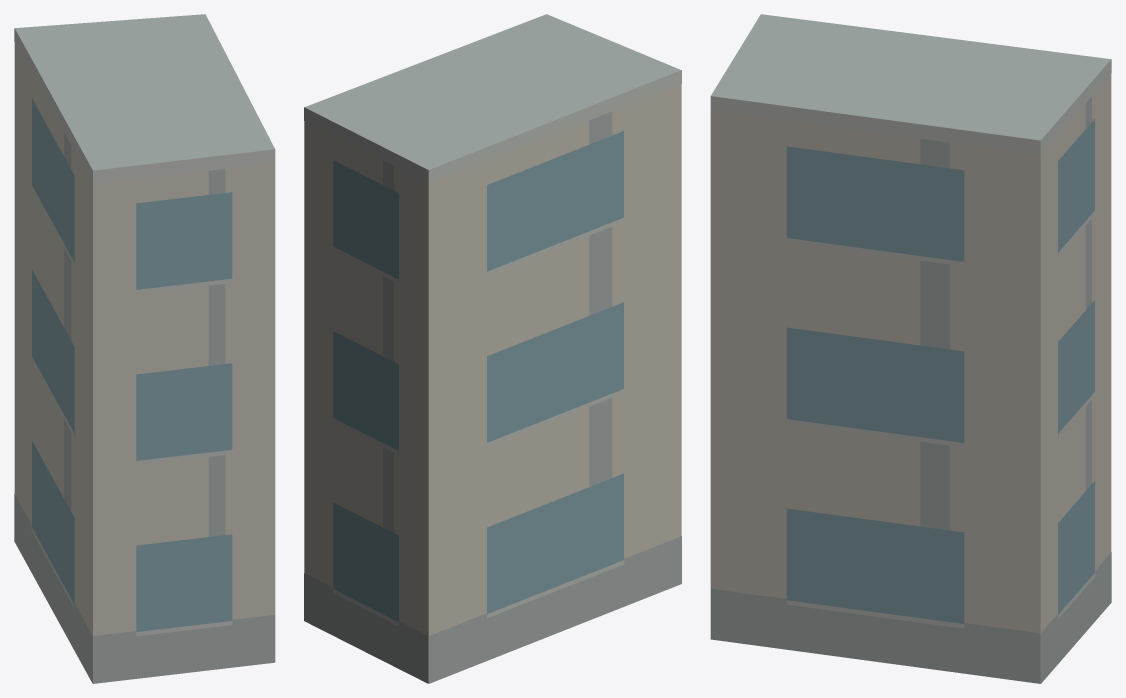
File: survey-upis-32732760.glb
3 renders of one model, left to right at view 1: azimuth 30°, elevation 25°; view 2: azimuth 150°, elevation 25°; view 3: azimuth 270°, elevation 25°, orthographic. The views are drawn at different scales.
Parts seen in each view (by area): view 1: survey-upis-32732760.tmp; view 2: survey-upis-32732760.tmp; view 3: survey-upis-32732760.tmp.
Part boxes in pixels (left/top/right/bottom): survey-upis-32732760.tmp: left=14, top=14, right=275, bottom=683; survey-upis-32732760.tmp: left=304, top=14, right=681, bottom=683; survey-upis-32732760.tmp: left=710, top=14, right=1111, bottom=683.
Bounding box in the file's own units: 4.58 × 9.15 × 6.13.
